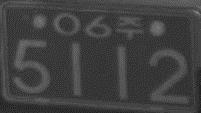0: (52, 12, 82, 36)
1: (59, 42, 96, 97), (105, 44, 140, 101)
2: (148, 47, 190, 105)
5: (11, 39, 51, 95)
6: (84, 13, 113, 39)
주: (115, 15, 144, 40)
